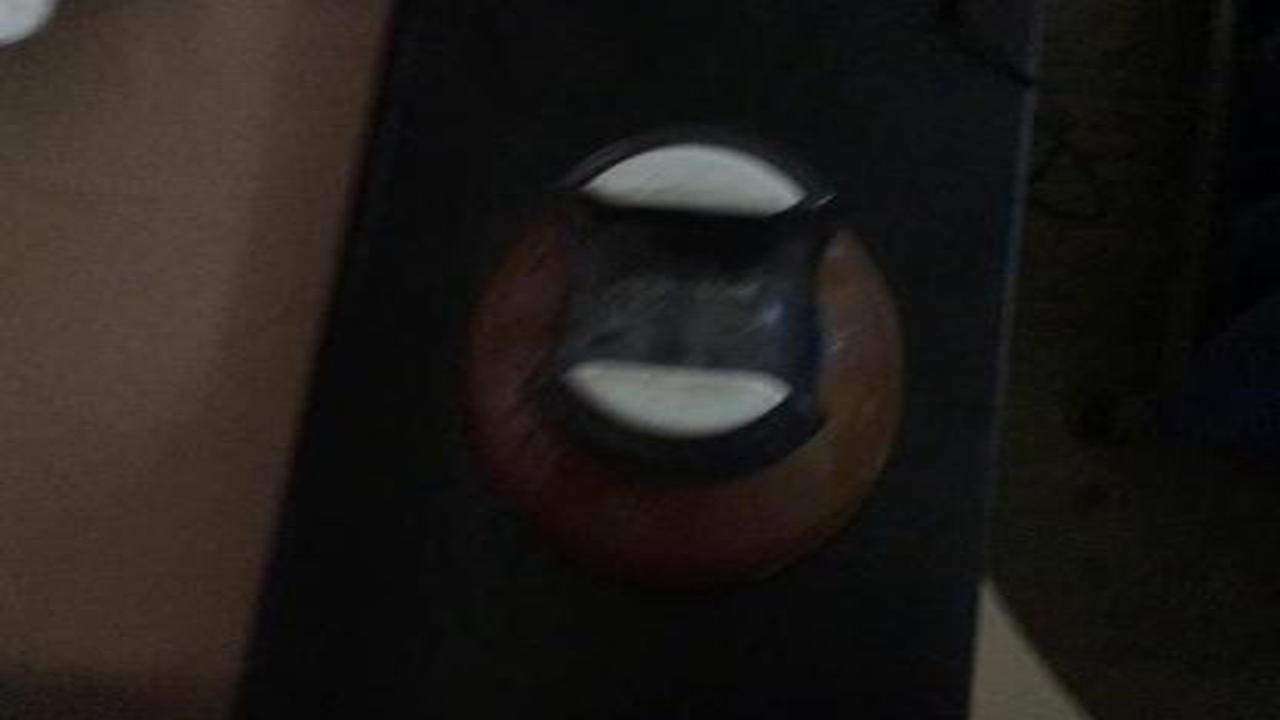insulator_pin: (441, 107, 927, 589)
